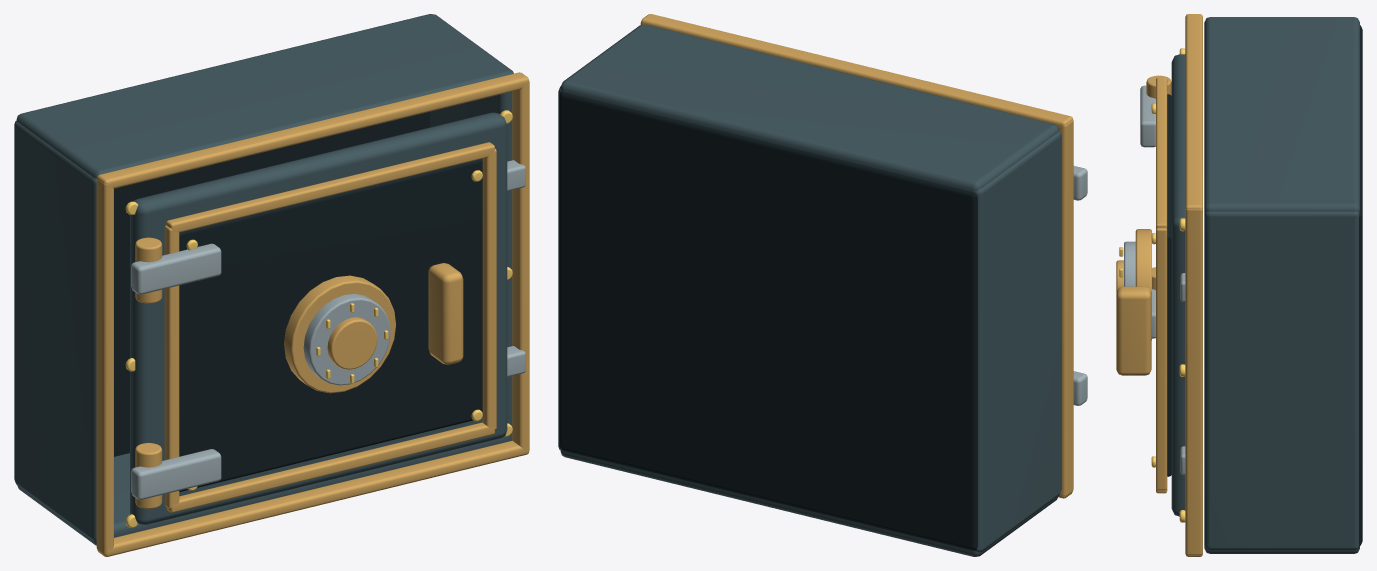
File: compartment.glb
3 views of the same model, side by side, from view 1: azimuth 30°, elevation 25°; view 2: azimuth 150°, elevation 25°; view 3: azimuth 270°, elevation 25° (orthographic). The views are drawn at different scales.
Visible parts, largest first — view 1: Inset front panel, Shelf.001, Side wall, Armoured door, Back wall, Outer gold rail.003, Outer gold rail.002, Outer gold rail, Outer gold rail.001, Door brass horizontal.001, Door brass horizontal, Lock surround (+11 smaller); view 2: Back wall, Shelf.001, Side wall, Outer gold rail.003, Outer gold rail, Shelf, Side wall.001; view 3: Side wall.001, Shelf.001, Armoured door, Outer gold rail.001, Outer gold rail.003, Handle bar, Door brass upright.001, Inset front panel, Back wall, Door brass horizontal.001, Lock surround, Hinge strap.001 (+2 smaller).
Part boxes in pixels (left/top/right/bottom): Inset front panel: left=179, top=159, right=482, bottom=491; Shelf.001: left=16, top=14, right=513, bottom=178; Side wall: left=14, top=120, right=96, bottom=541; Armoured door: left=130, top=112, right=507, bottom=524; Back wall: left=114, top=111, right=429, bottom=456; Outer gold rail.003: left=97, top=72, right=528, bottom=188; Outer gold rail.002: left=97, top=440, right=528, bottom=556; Outer gold rail: left=96, top=178, right=113, bottom=554; Outer gold rail.001: left=512, top=80, right=529, bottom=451; Door brass horizontal.001: left=166, top=142, right=494, bottom=232; Door brass horizontal: left=166, top=422, right=494, bottom=512; Lock surround: left=284, top=275, right=395, bottom=393; Back wall: left=559, top=91, right=977, bottom=550; Shelf.001: left=560, top=24, right=1059, bottom=192; Side wall: left=975, top=131, right=1061, bottom=552; Outer gold rail.003: left=641, top=14, right=1072, bottom=129; Outer gold rail: left=1058, top=119, right=1073, bottom=496; Shelf: left=560, top=450, right=1058, bottom=556; Side wall.001: left=558, top=86, right=561, bottom=450; Side wall.001: left=1204, top=211, right=1359, bottom=550; Shelf.001: left=1204, top=17, right=1359, bottom=212; Armoured door: left=1171, top=54, right=1185, bottom=516; Outer gold rail.001: left=1185, top=208, right=1202, bottom=554; Outer gold rail.003: left=1185, top=14, right=1202, bottom=209; Handle bar: left=1116, top=286, right=1151, bottom=375; Door brass upright.001: left=1156, top=228, right=1167, bottom=490; Inset front panel: left=1167, top=94, right=1171, bottom=476; Back wall: left=1359, top=25, right=1362, bottom=546; Door brass horizontal.001: left=1156, top=77, right=1167, bottom=228; Lock surround: left=1135, top=229, right=1151, bottom=340; Hinge strap.001: left=1140, top=85, right=1155, bottom=147.
Bounding box in the file's own units: 1.82 × 1.55 × 0.98.
